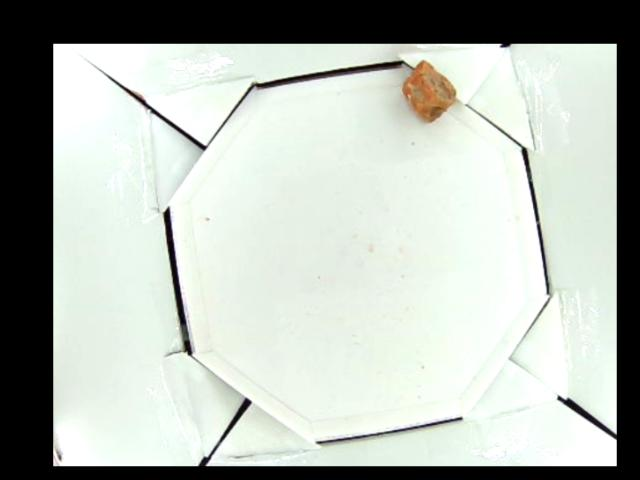Brisk: (401, 59, 458, 122)
